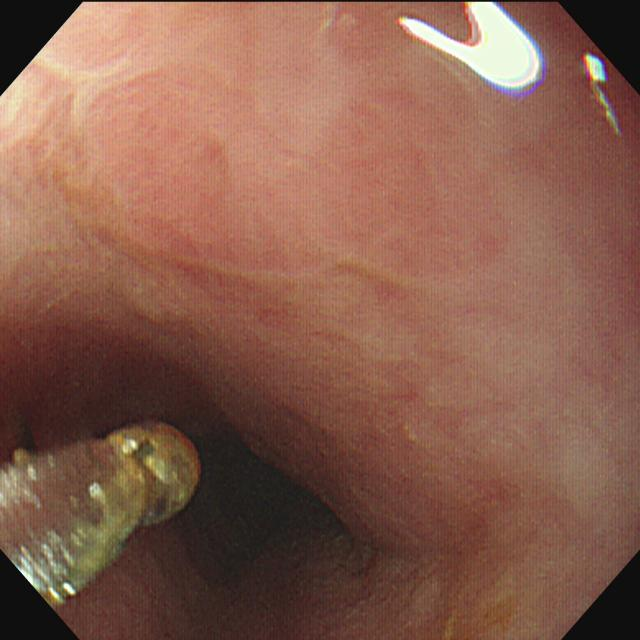E: (188, 402, 377, 602)
K: (2, 417, 205, 611)
U: (395, 3, 549, 99), (579, 50, 622, 134)
